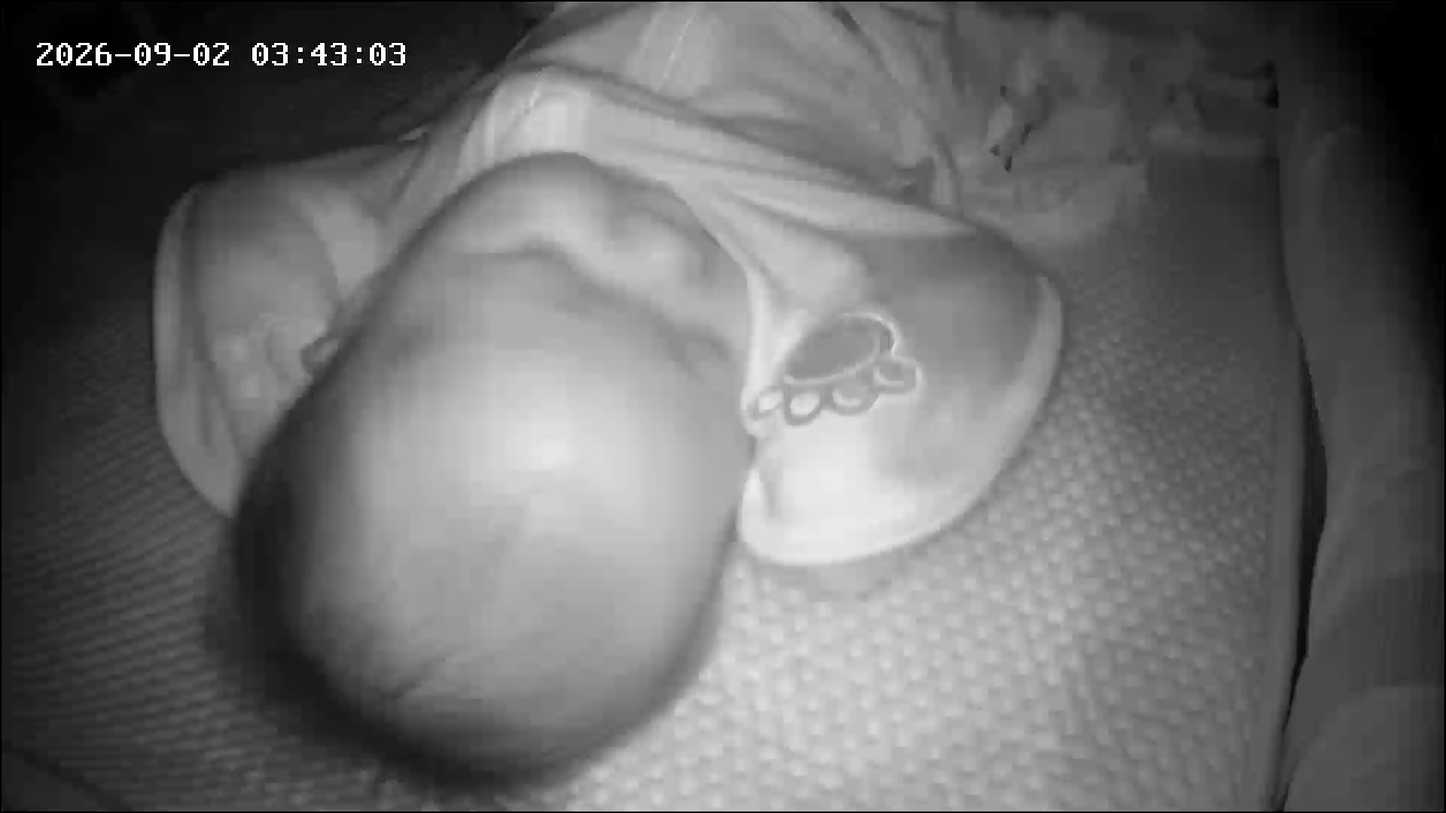baby: (179, 1, 1092, 801)
baby_face: (216, 149, 758, 792)
